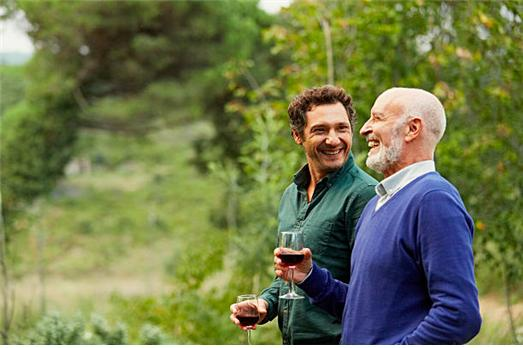alcohol: (277, 231, 305, 302), (232, 297, 264, 344)
